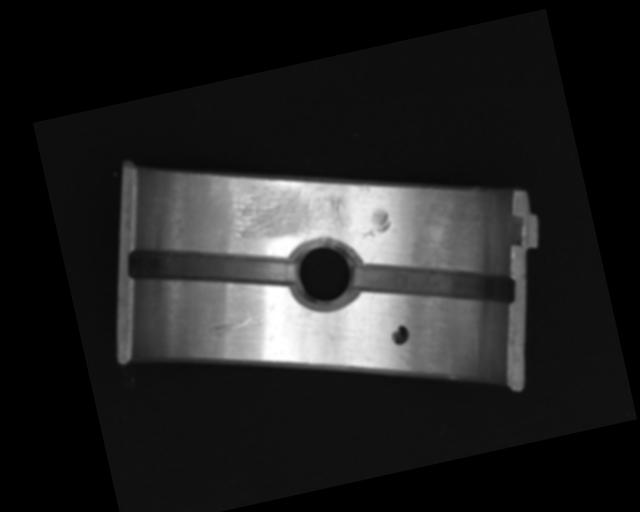blot: (388, 323, 411, 347)
bruise: (355, 206, 393, 240), (355, 180, 372, 195)
gap: (352, 232, 518, 336), (127, 217, 297, 316)
hole: (281, 230, 367, 318)
nick: (207, 312, 264, 339)
scratch: (222, 163, 356, 255)
